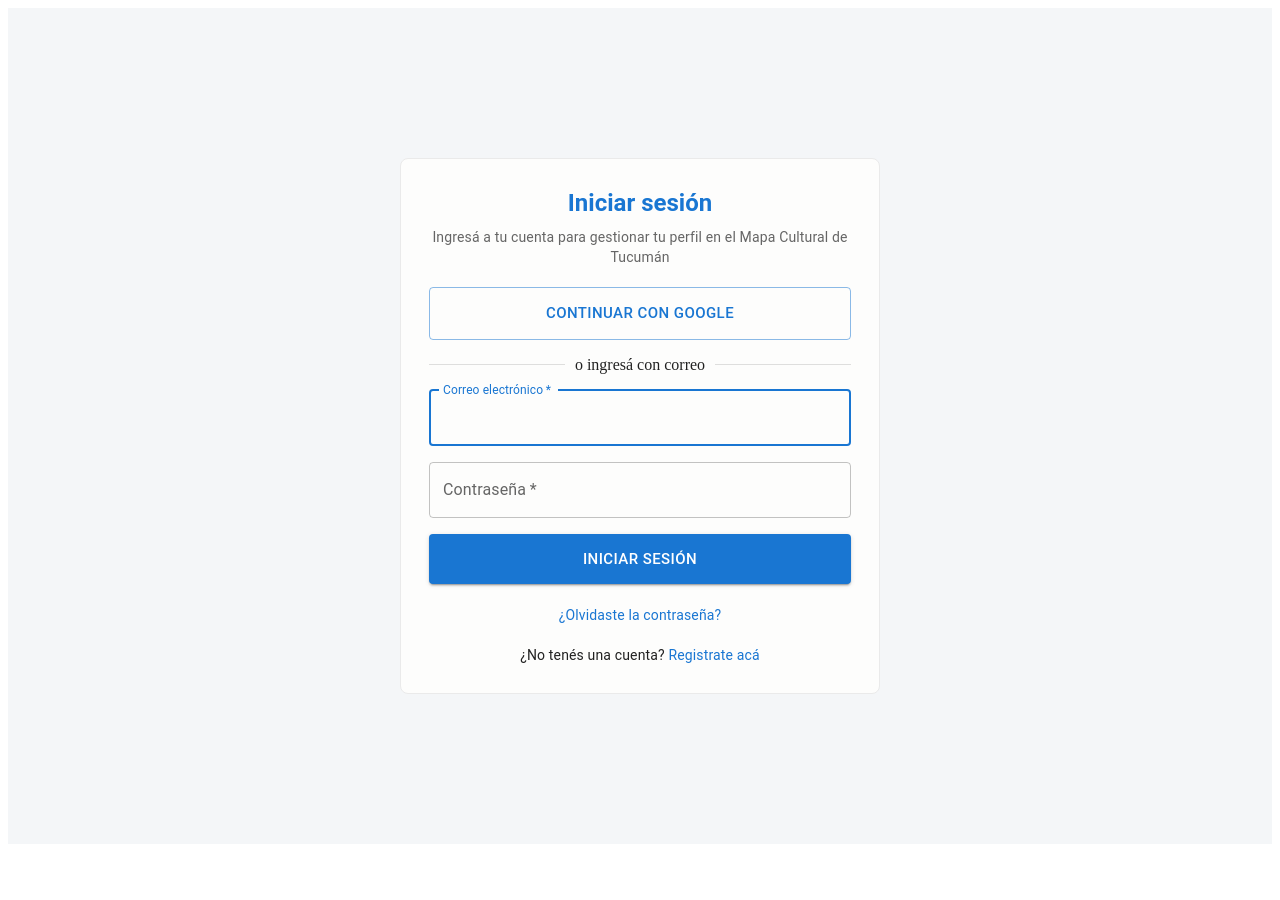
Scenario: LoginPage - Diálogo de Recuperación de Contraseña › precompleta el email si el usuario ya lo había escrito en el formulario de login
Type "artista@mosaico.gob.ar" into the field labelled "Correo electrónico *" at point(640, 418), box left=429, top=390, right=851, bottom=446
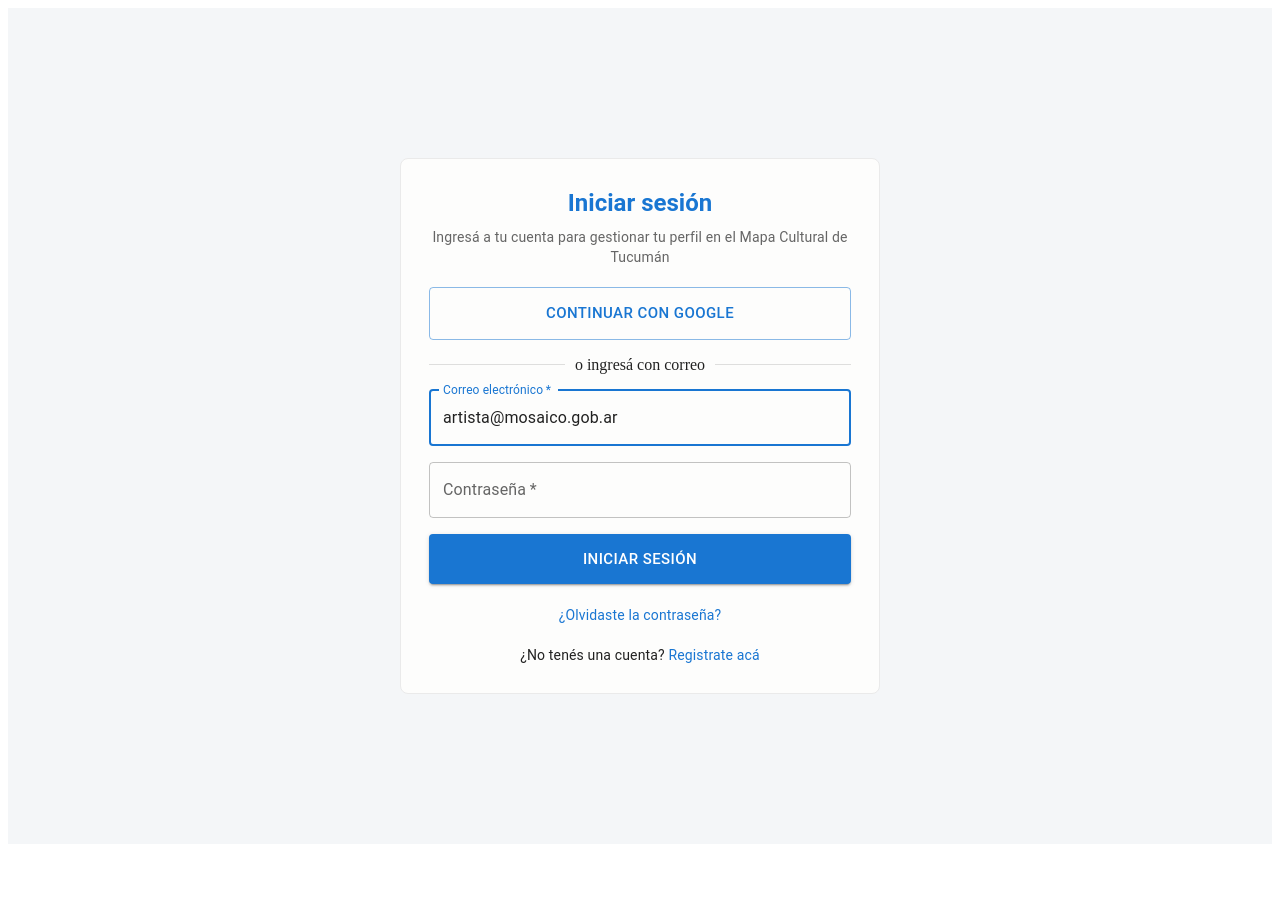
Click the button "¿Olvidaste la contraseña?" at point(640, 615), box left=559, top=605, right=721, bottom=625
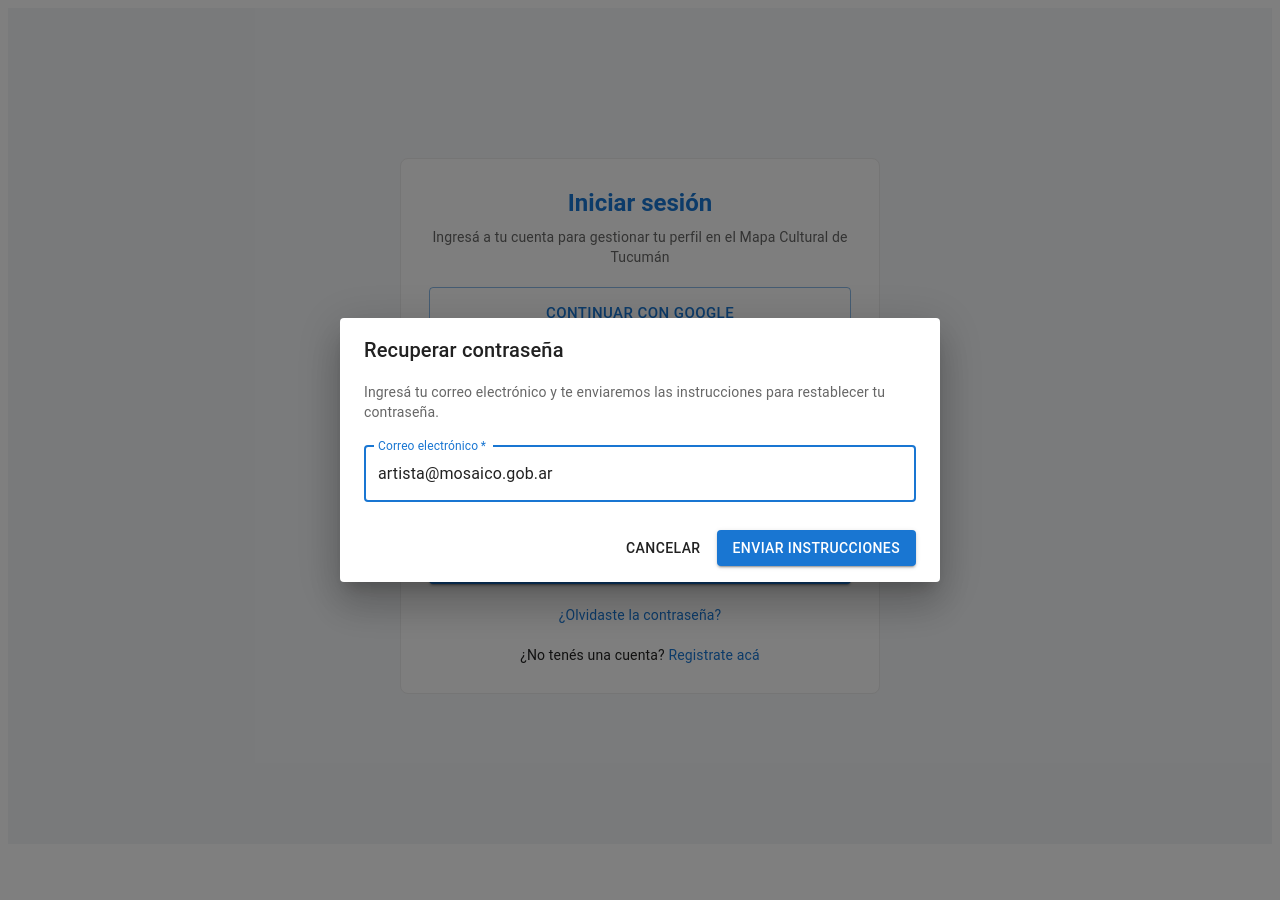
Check: the field labelled "Correo electrónico *" holds "artista@mosaico.gob.ar", box left=364, top=446, right=916, bottom=502
